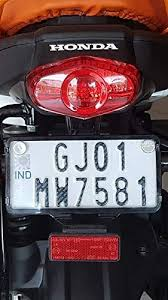Number plates: (2, 133, 163, 216)
